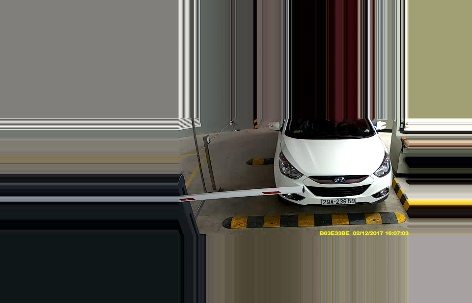plate: (320, 196, 356, 207)
